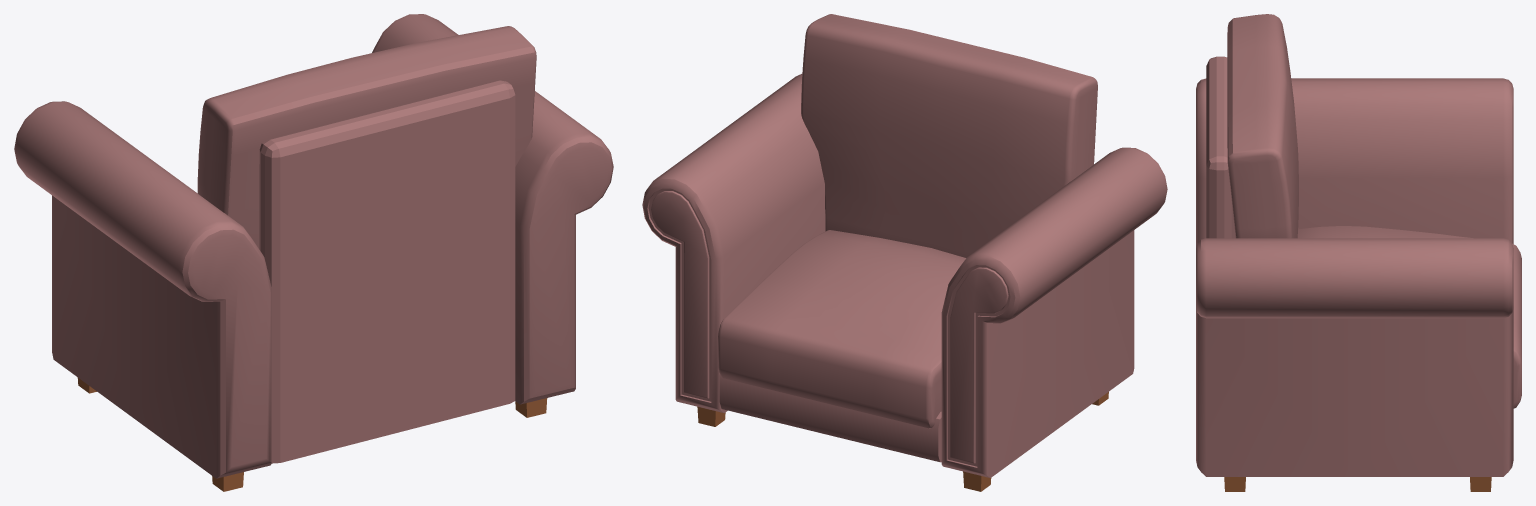
Rendered from Chair_Single_08.glb.
3 views of the same model, side by side, from view 1: azimuth 30°, elevation 25°; view 2: azimuth 150°, elevation 25°; view 3: azimuth 270°, elevation 25° (orthographic). The views are drawn at different scales.
Parts seen in each view (by area): view 1: Mesh_Chair_Single_08; view 2: Mesh_Chair_Single_08; view 3: Mesh_Chair_Single_08.
Boxes of the visible parts, x1,y1,x2,y2 form: Mesh_Chair_Single_08: (14,14,613,491); Mesh_Chair_Single_08: (642,14,1167,491); Mesh_Chair_Single_08: (1196,14,1521,491).
Bounding box in the file's own units: 0.7988 × 0.6588 × 0.5684.
1 material, 1 textured.
